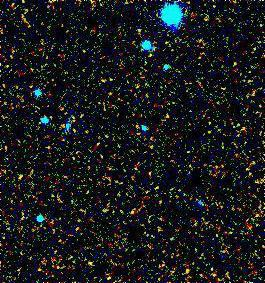star: (116, 198, 146, 228)
